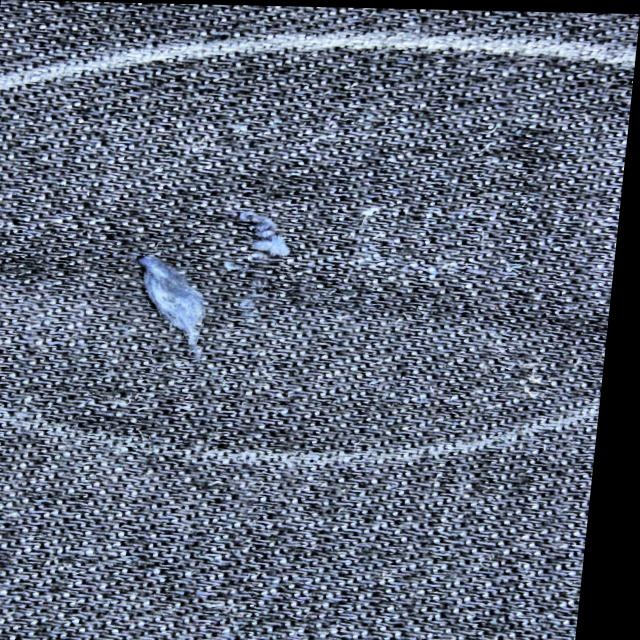Hole: (112, 238, 228, 365), (217, 194, 323, 275)
